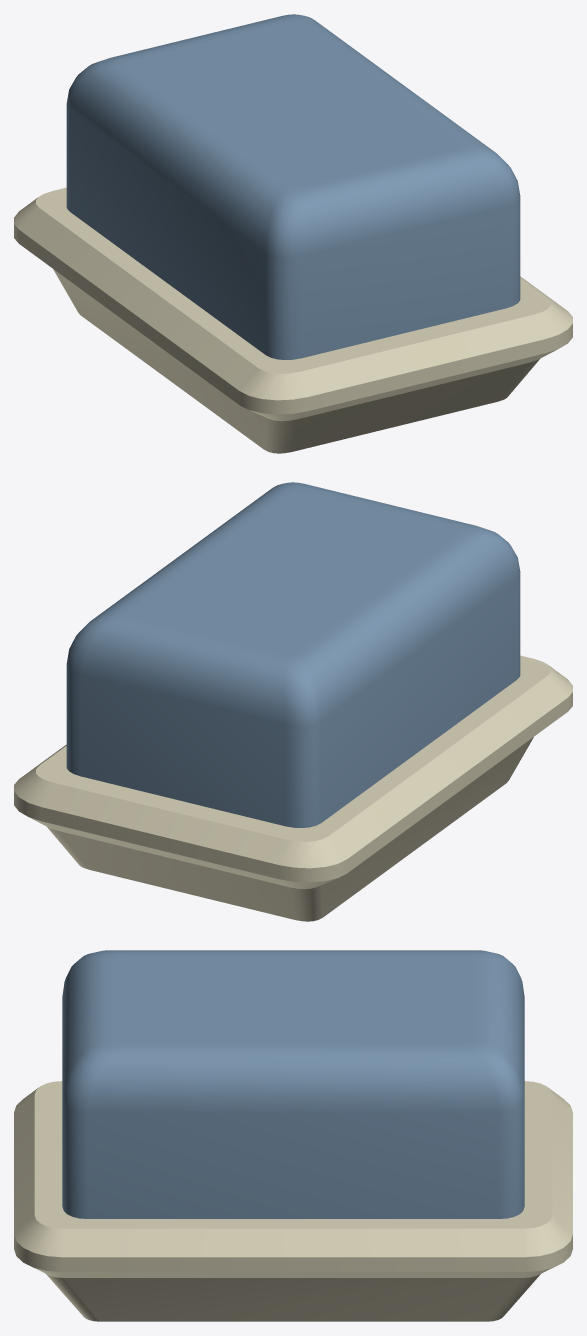
The model's file is Butterbox.fbx.
3 renders of one model, top to bottom at view 1: azimuth 30°, elevation 25°; view 2: azimuth 150°, elevation 25°; view 3: azimuth 270°, elevation 25°, orthographic. The views are drawn at different scales.
Visible parts, largest first — view 1: Butterbox, Butterbox.001; view 2: Butterbox, Butterbox.001; view 3: Butterbox, Butterbox.001.
Part boxes in pixels (x1,y1,x2,y2): Butterbox: (66,14,520,359); Butterbox.001: (14,187,572,453); Butterbox: (66,482,520,827); Butterbox.001: (14,655,572,921); Butterbox: (62,950,524,1218); Butterbox.001: (14,1081,572,1321).
Size of the model in its own units: 0.4266 by 0.3076 by 0.6007.
